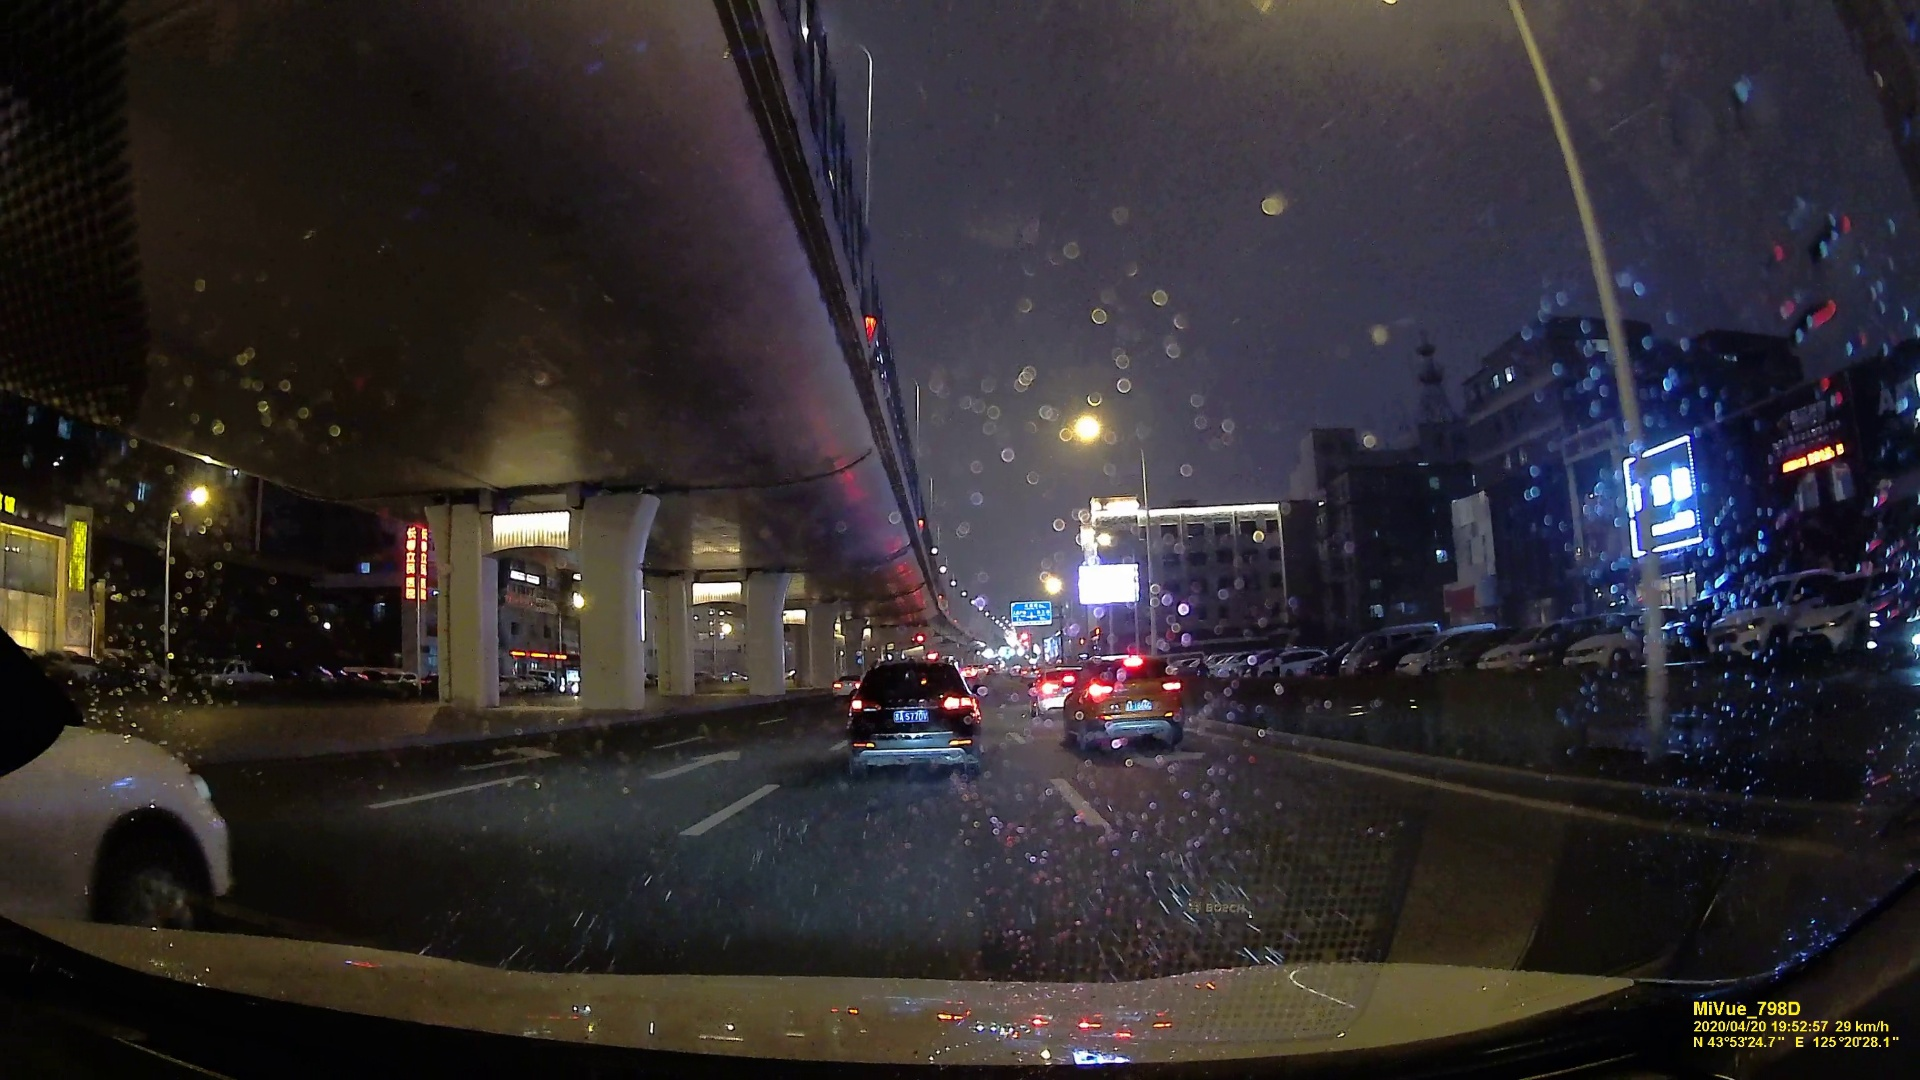traffic_sign: (1009, 600, 1058, 628), (559, 567, 585, 616)
vehicle: (840, 655, 978, 775), (1062, 657, 1187, 756), (1030, 670, 1071, 711)
